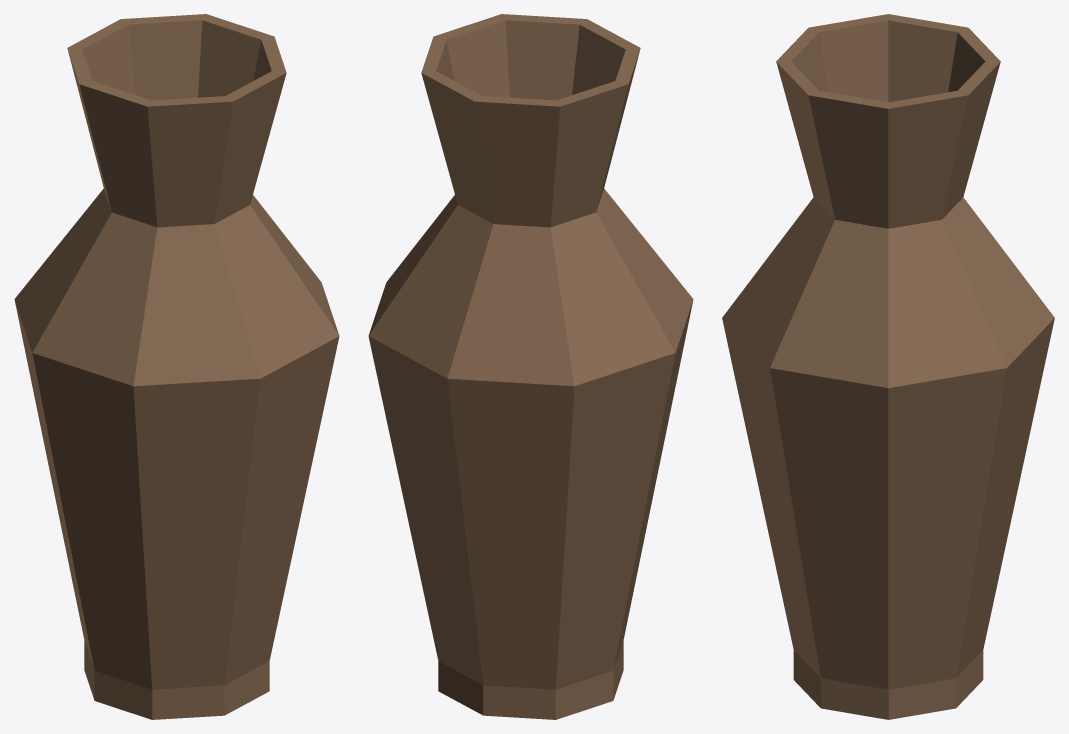
The model's file is VASE.fbx.
3 renders of one model, left to right at view 1: azimuth 30°, elevation 25°; view 2: azimuth 150°, elevation 25°; view 3: azimuth 270°, elevation 25°, orthographic.
Parts seen in each view (by area): view 1: geo_Vase; view 2: geo_Vase; view 3: geo_Vase.
Boxes of the visible parts, box(x1,y1,x2,y2) form: geo_Vase: box(14, 14, 339, 719); geo_Vase: box(368, 14, 693, 719); geo_Vase: box(722, 14, 1054, 719).
Size of the model in its own units: 1 by 2.05 by 1.
